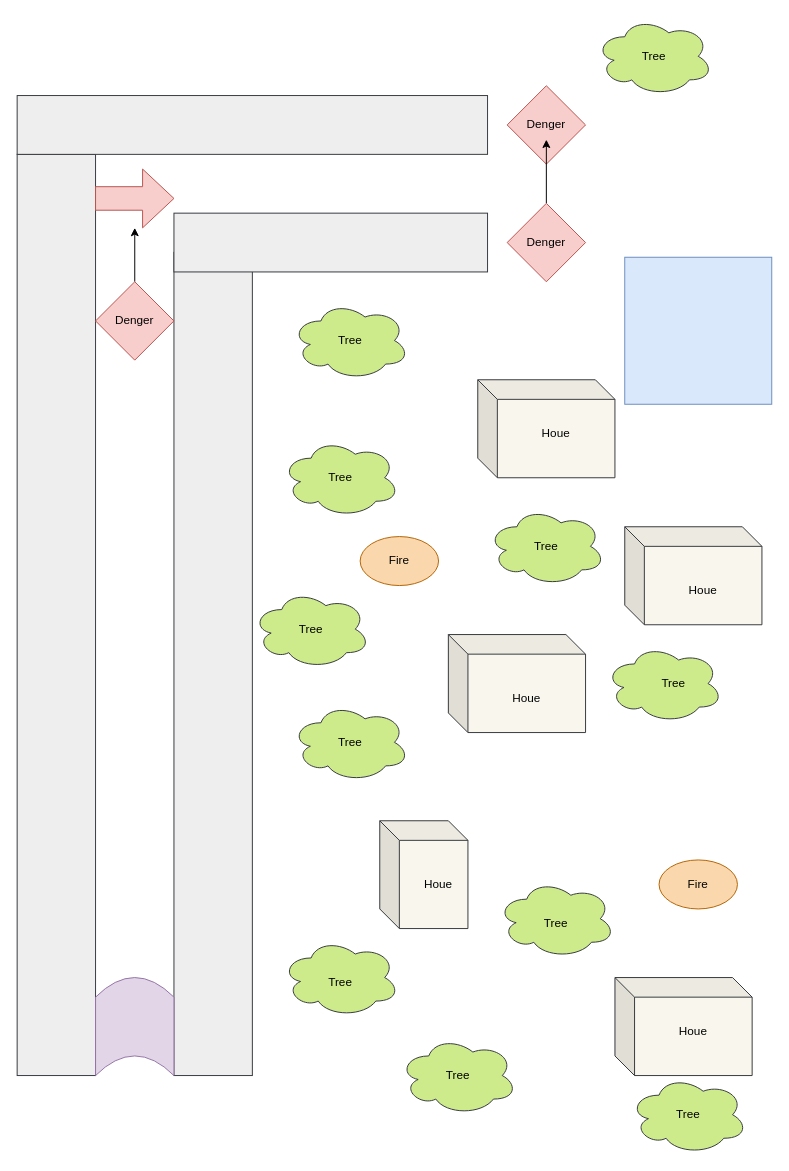
Image size: 789x1171. Some labels were removed from this diagram. The centre of each missing label's shape, as x and y in pixels:
Door Open: point 134,1026
Pool: point 698,330
